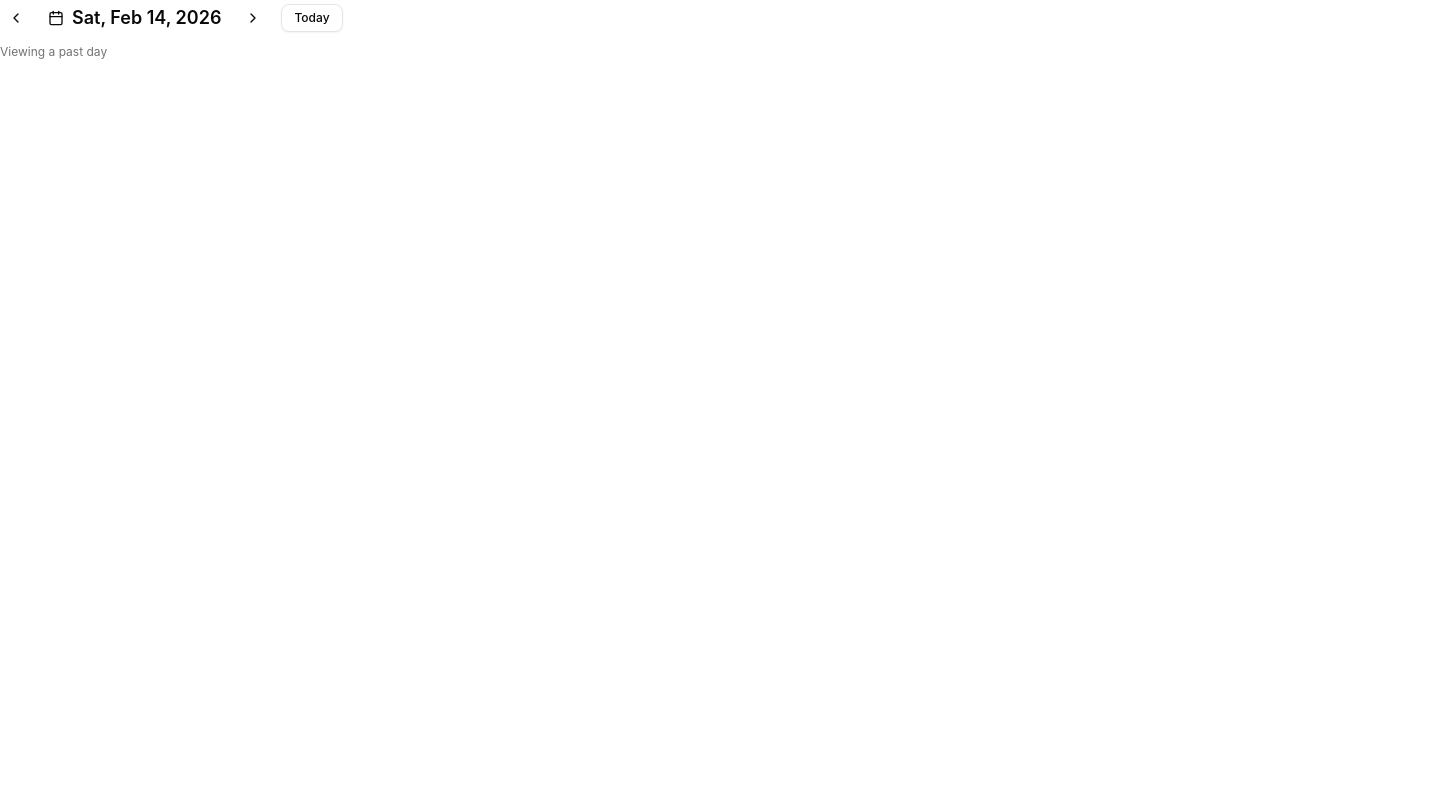
Test: DateNavigator › opens calendar popover when clicking the date header
Click the button with test id "date-header-button": (135, 18) [36, 0, 233, 36]
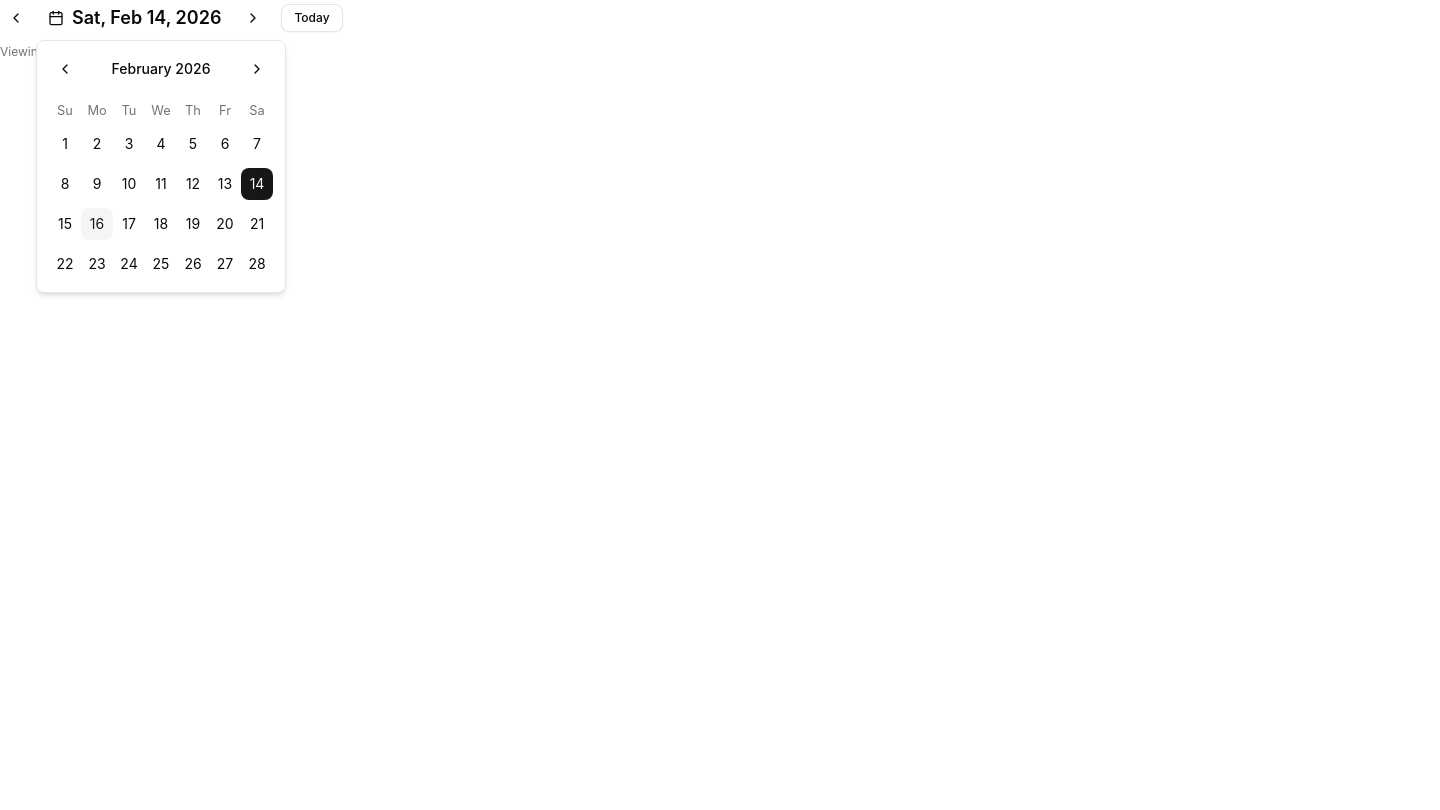
Expected: the table is shown, [49, 101, 273, 280]
